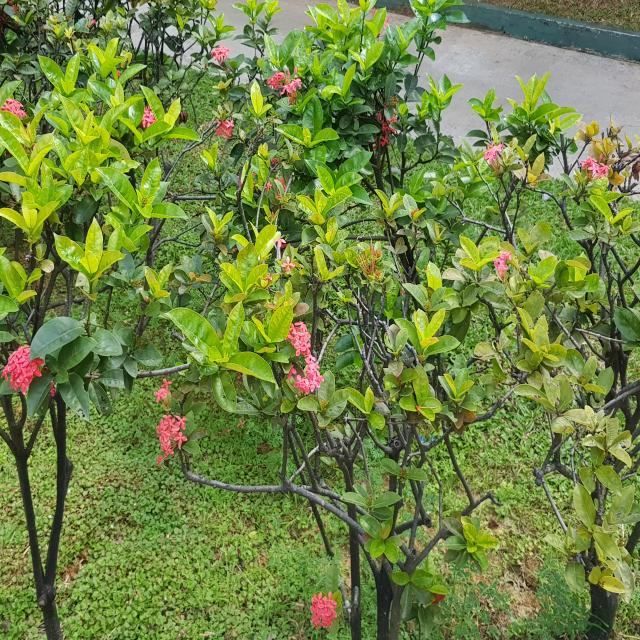Chinese-Ixora: (153, 377, 188, 470), (284, 320, 325, 395), (298, 587, 346, 635), (0, 344, 45, 395), (267, 65, 303, 106), (376, 94, 398, 147), (356, 243, 382, 278), (580, 153, 611, 182), (482, 139, 502, 172), (1, 97, 26, 123), (493, 251, 512, 283), (372, 6, 388, 39), (139, 104, 157, 131), (213, 117, 235, 138), (211, 44, 231, 66), (281, 256, 295, 276), (273, 237, 286, 248)
